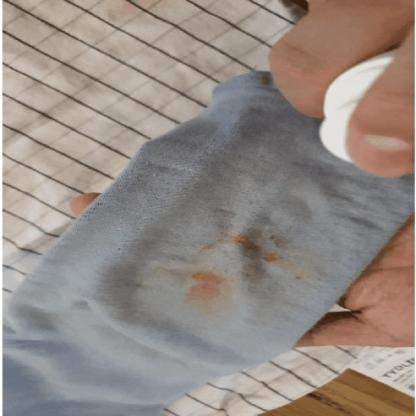kimchi: (187, 262, 225, 312), (259, 253, 309, 284), (237, 235, 266, 262), (267, 229, 290, 252), (196, 239, 218, 258)
